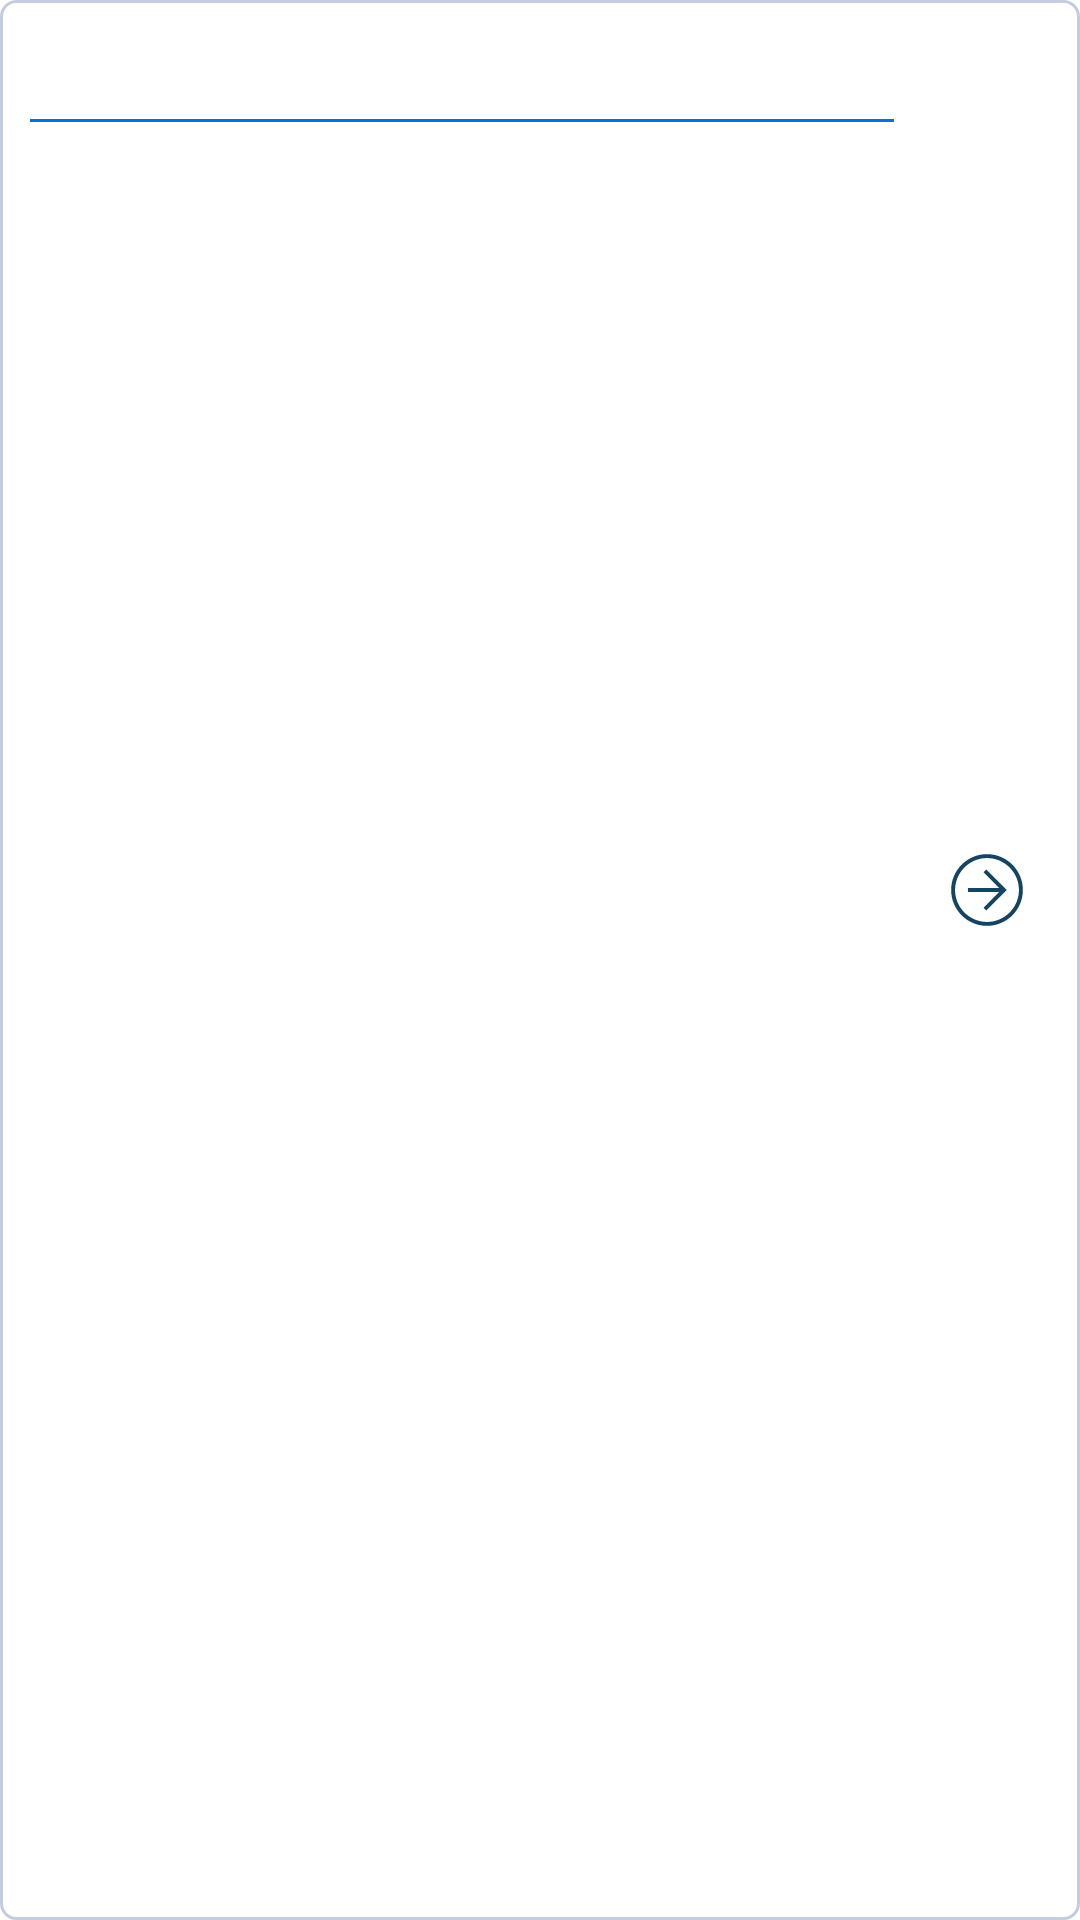

Screen size 1080w x 1920h. Icon name, then its center in pixels as (x=x, y=y):
circled arrow right: (x=987, y=890)
